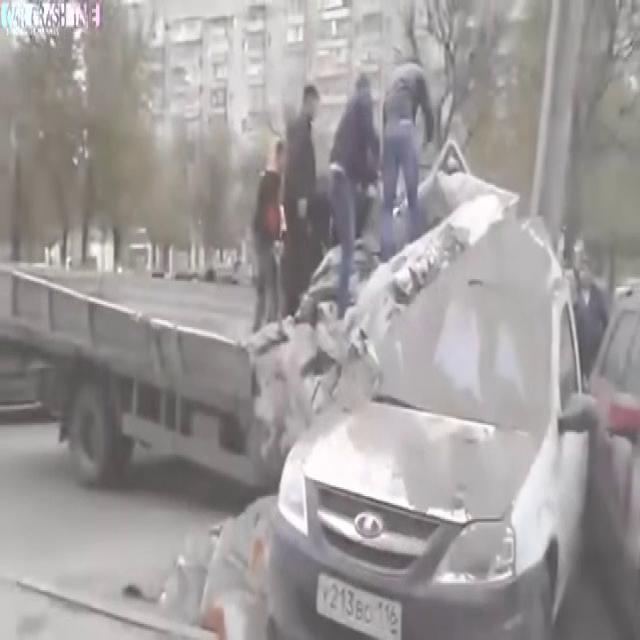accident: (229, 205, 527, 574)
